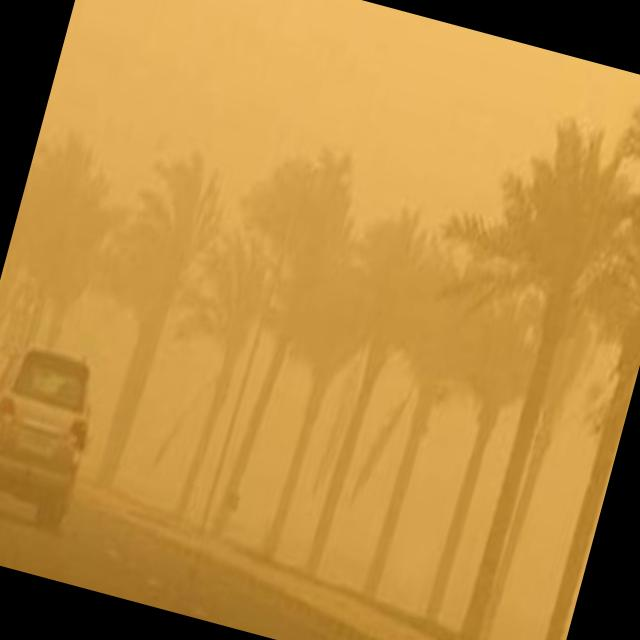car: (0, 335, 107, 534)
